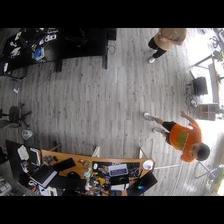normal: (142, 109, 211, 163), (148, 28, 187, 64)
